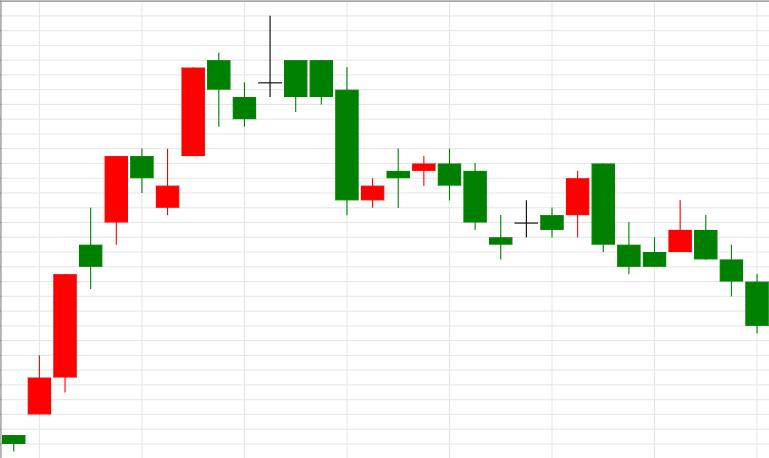bearish_engulfing_fall: (489, 163, 614, 261)
hanging_man_fall: (28, 53, 231, 414)
